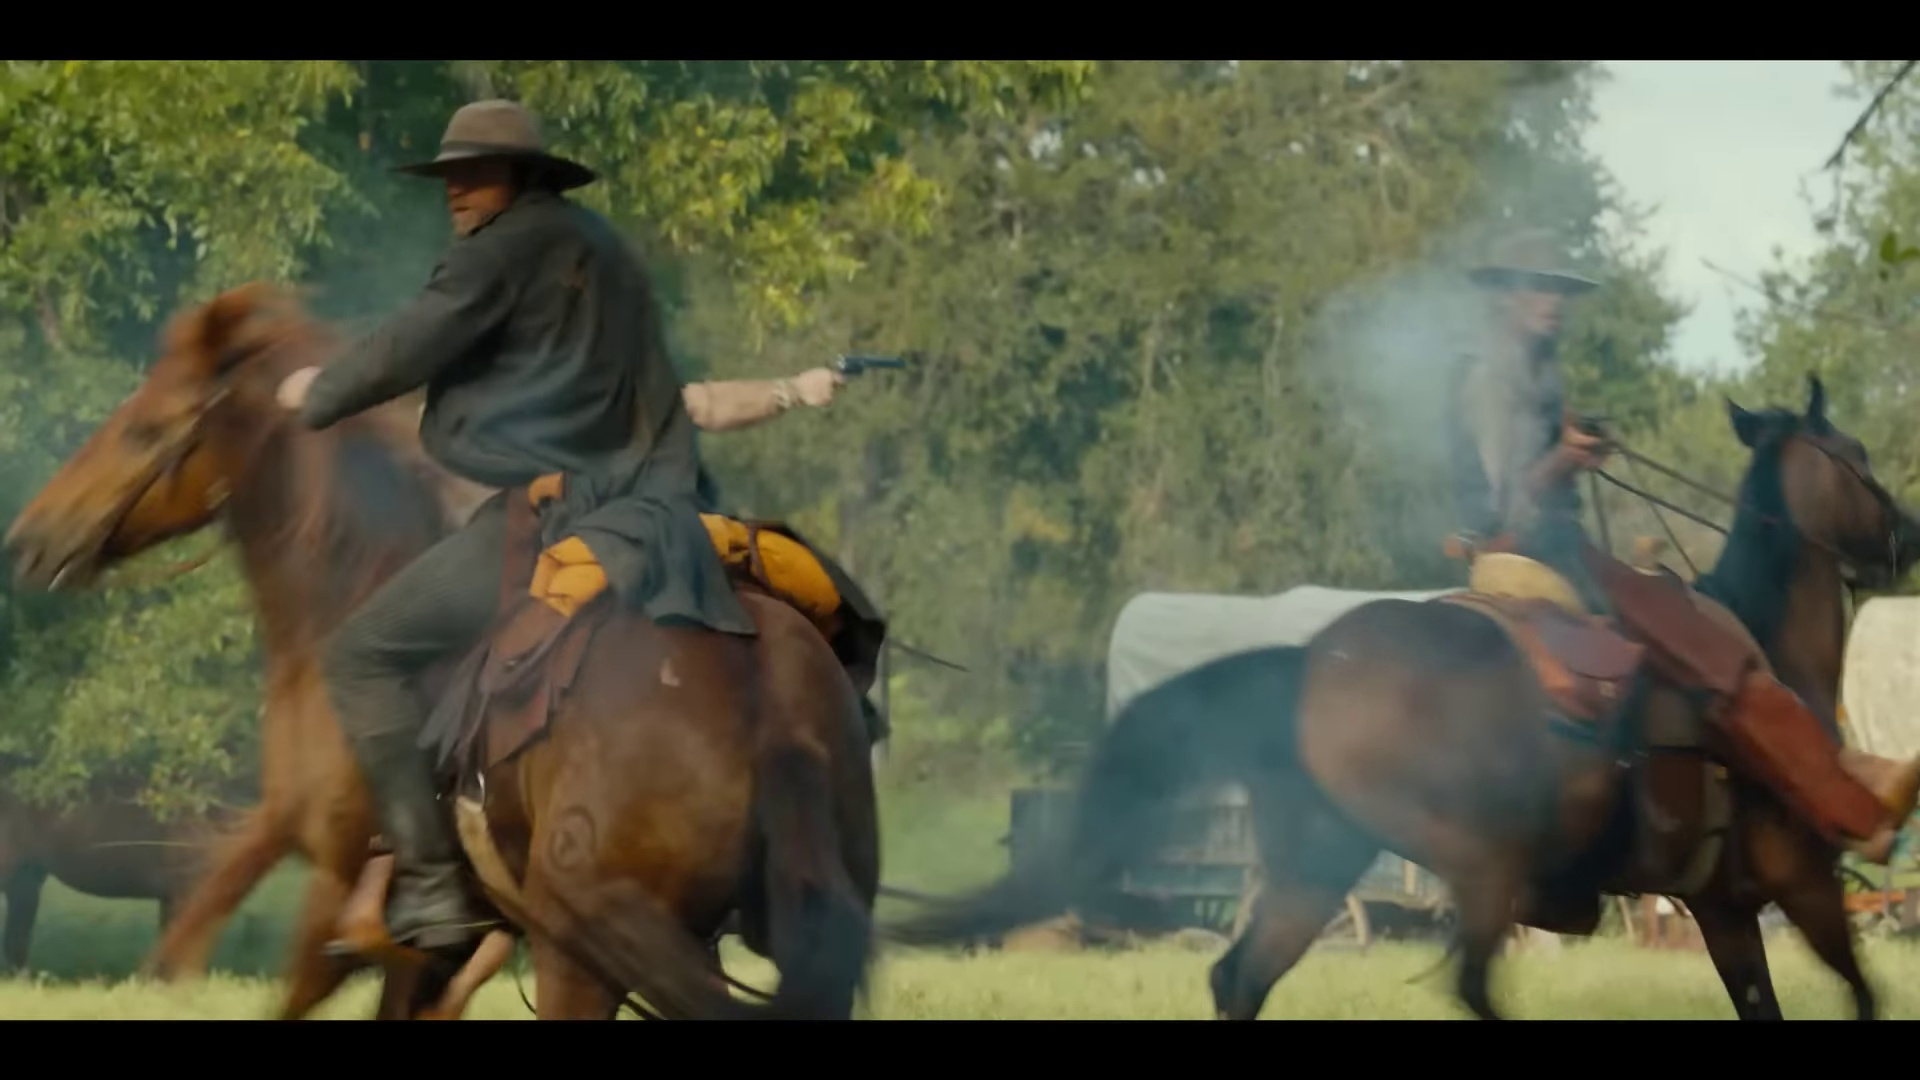gun: (825, 351, 906, 382)
p_w_gun: (678, 357, 847, 430)
p_wo_gun_carrying_another_object: (1406, 200, 1920, 873)
p_wo_gun_not_carrying_normal_pose: (261, 96, 712, 963)
